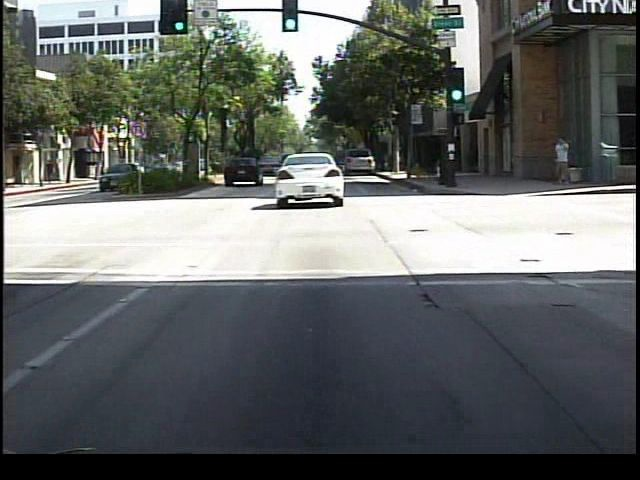person: (549, 136, 573, 192), (43, 157, 58, 192)
